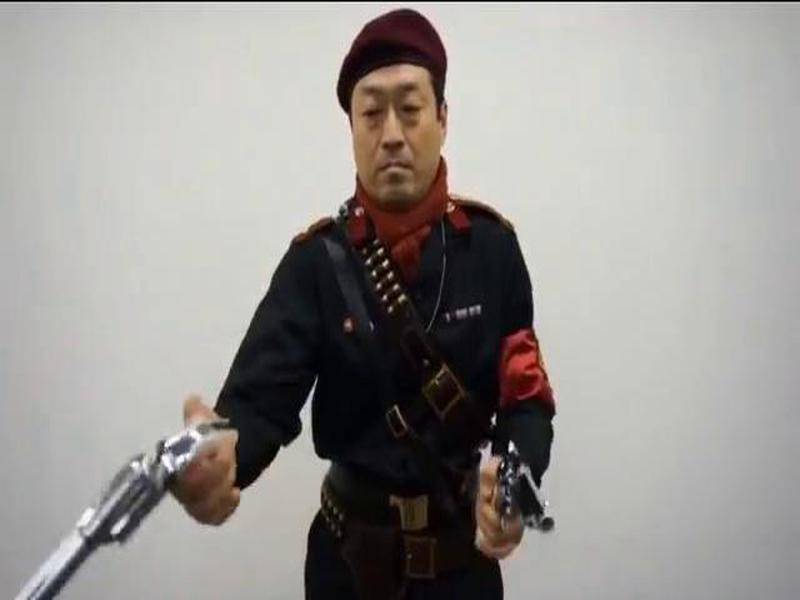Revolver: (4, 412, 229, 600), (465, 424, 573, 577)
